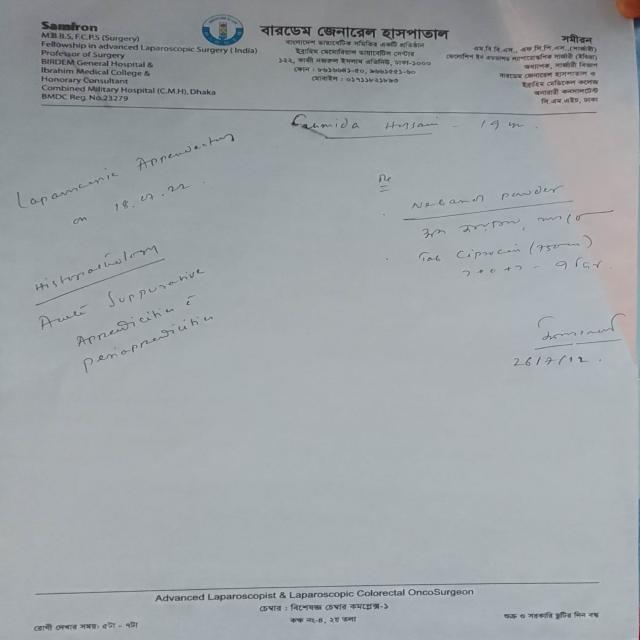Ciprocin: (449, 242, 526, 261)
Nebanol: (402, 191, 494, 213)
